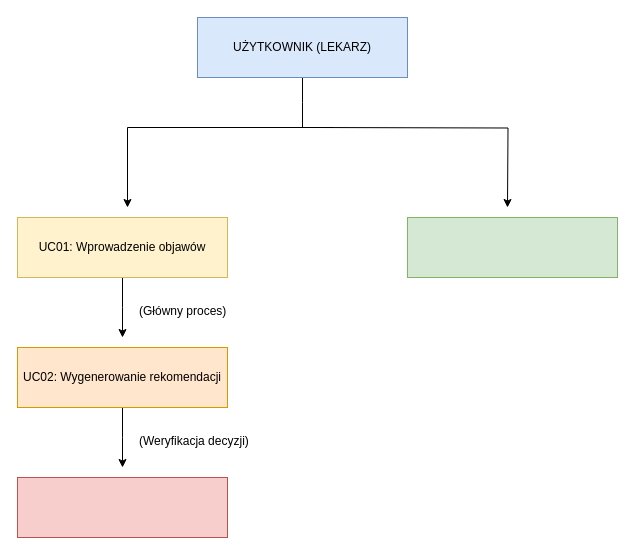
Image size: 635x555. Some labels were removed from this diagram. The centre of each missing label's shape, as x and y in pixels:
"UC03: Analiza podobieństwa pacjentów (SQL Cosine)" goes at (122,507).
"UC04: Zarządzanie i porównanie modeli ML (WF09)" goes at (512,247).
